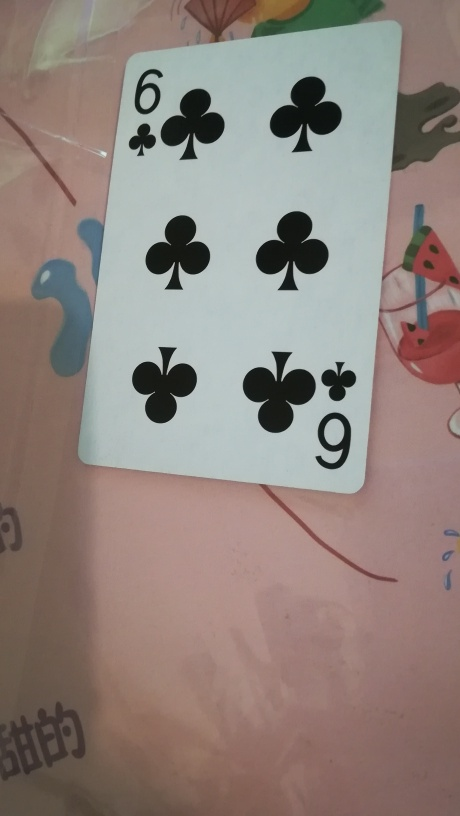mh 6: (76, 20, 404, 498)
